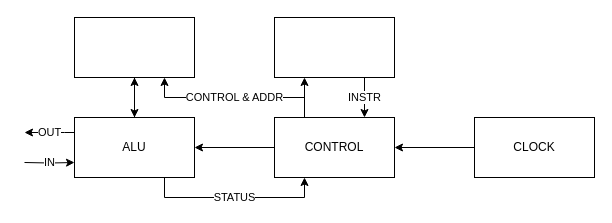
This 612x223 diagram has some shape labels left out. Each missing label, with the box of its shape:
Data cache: (74, 16, 194, 78)
Instruction cache: (274, 16, 394, 78)
